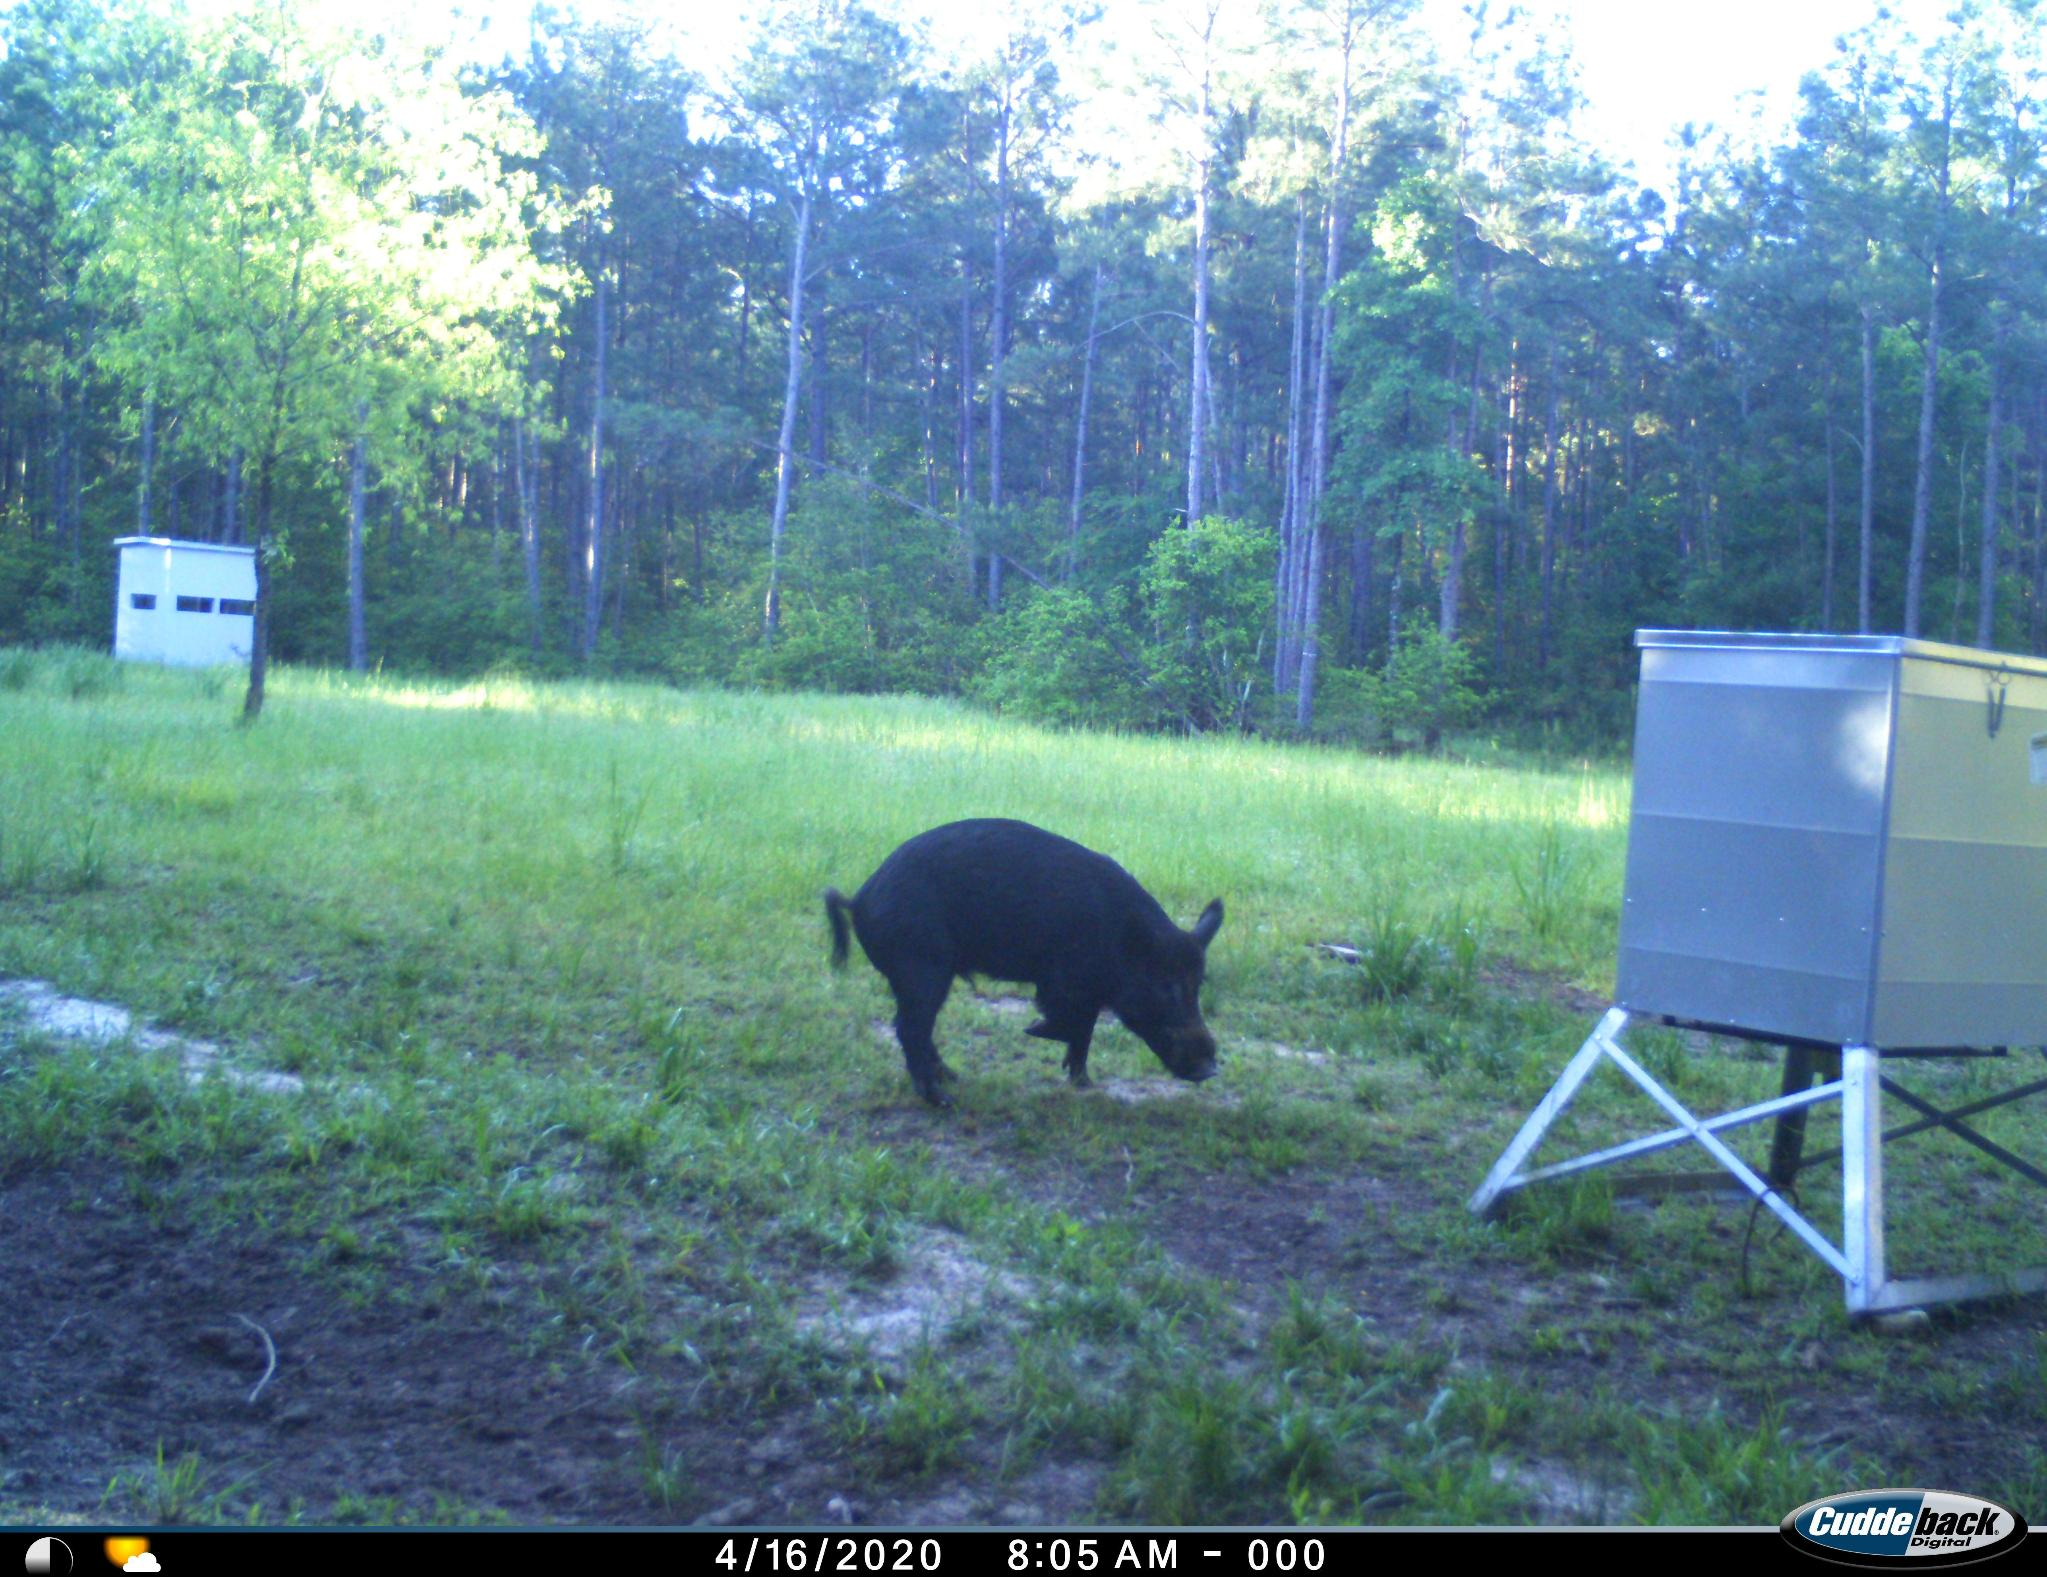Hog: (805, 815, 1242, 1107)
